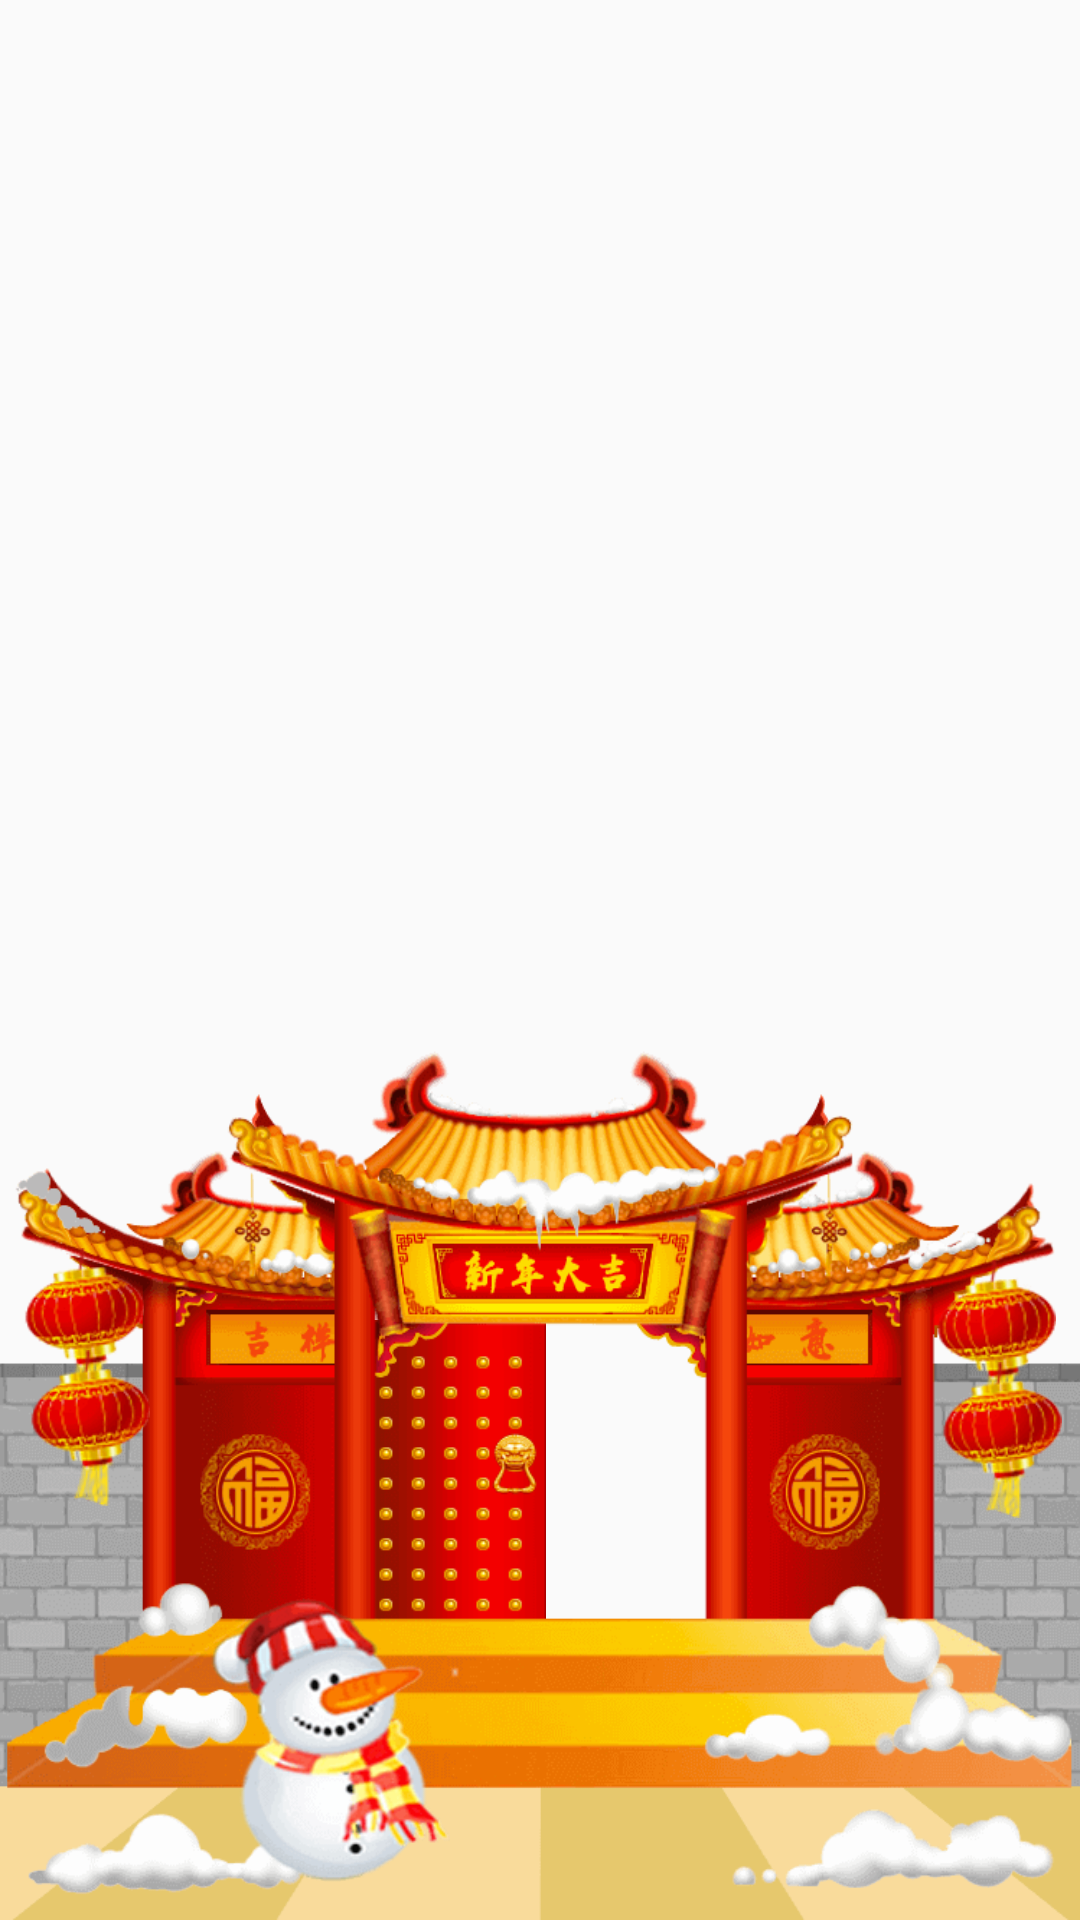

Named icons in this screenshot (1080 x 1920) and their centers, (x=x, y=y):
rdinner lantern: (x=84, y=1326), (x=996, y=1338), (x=90, y=1428), (x=1002, y=1440)
rdinner snower: (x=330, y=1740)
